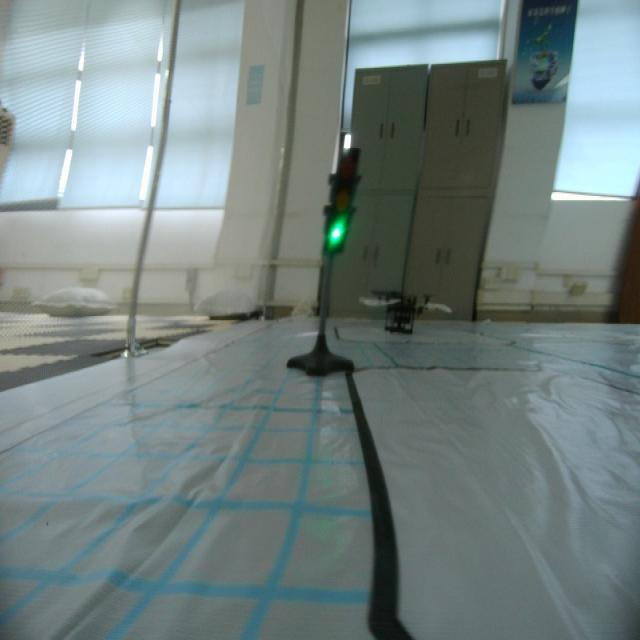green: (325, 143, 361, 259)
